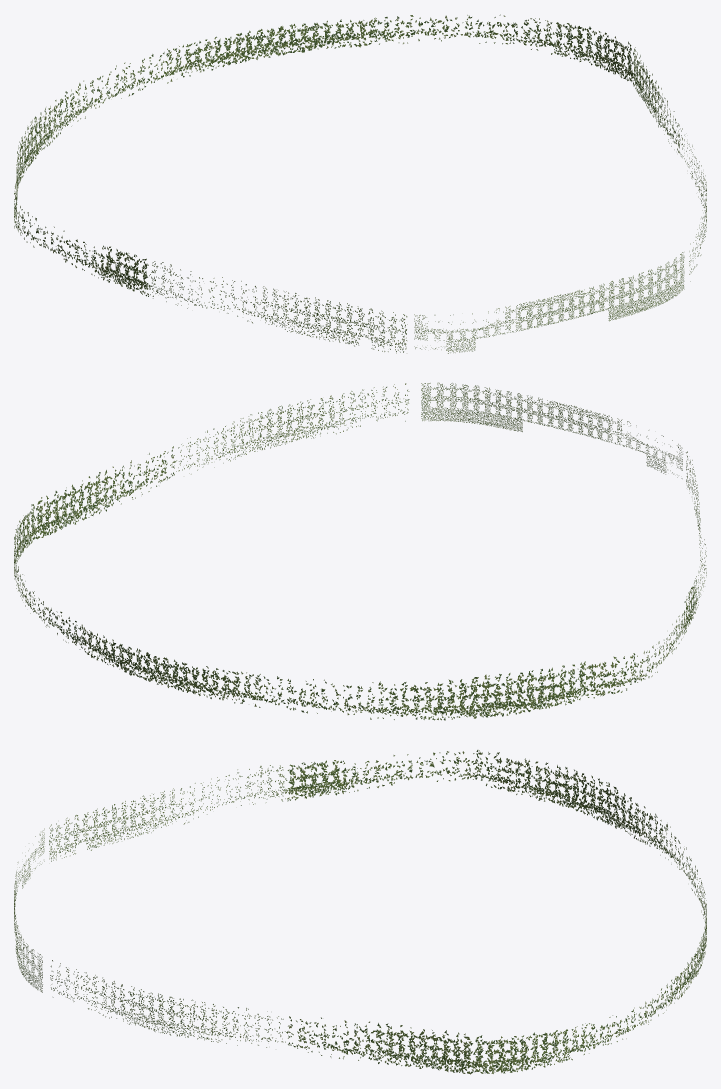
The model's file is r15_ivy_lo.glb.
3 renders of one model, top to bottom at view 1: azimuth 30°, elevation 25°; view 2: azimuth 150°, elevation 25°; view 3: azimuth 270°, elevation 25°, orthographic. The views are drawn at different scales.
Parts seen in each view (by area): view 1: ivy_lo; view 2: ivy_lo; view 3: ivy_lo.
Boxes of the visible parts, left/top/right/bottom form: ivy_lo: left=14, top=14, right=706, bottom=353; ivy_lo: left=14, top=382, right=706, bottom=720; ivy_lo: left=14, top=750, right=706, bottom=1074.
Size of the model in its own units: 228 by 16.13 by 229.
